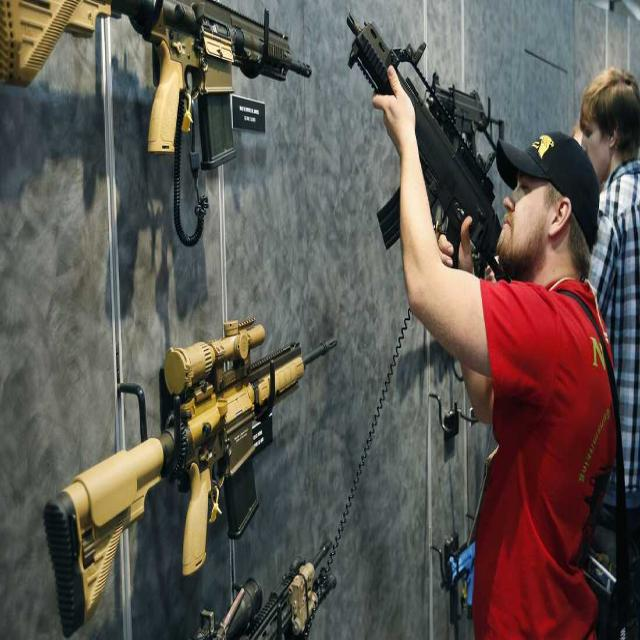Rifle: (42, 318, 337, 639), (0, 0, 311, 170), (346, 14, 502, 280)
SMG: (434, 76, 504, 165)
